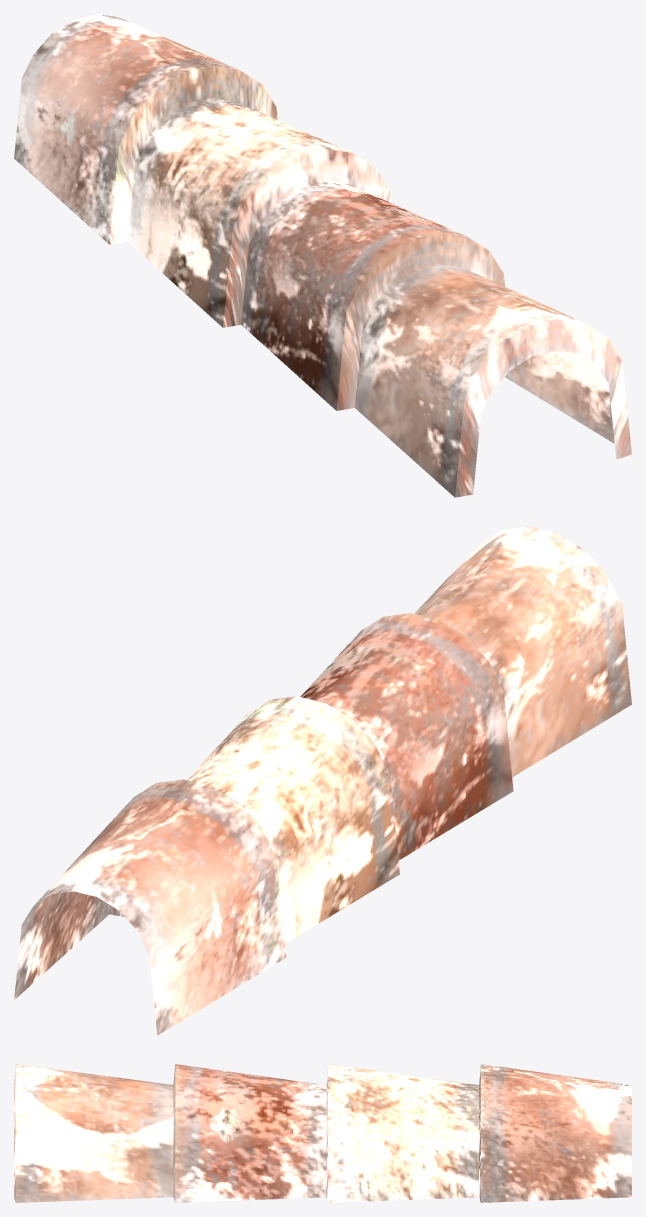
The model's file is SM_roof_A_top_part_2_01.fbx.
3 views of the same model, one above another, from view 1: azimuth 30°, elevation 25°; view 2: azimuth 150°, elevation 25°; view 3: azimuth 270°, elevation 25° (orthographic). The views are drawn at different scales.
Visible parts, largest first — view 1: SM_roof_A_top_part_2_01_LOD0; view 2: SM_roof_A_top_part_2_01_LOD0; view 3: SM_roof_A_top_part_2_01_LOD0.
Boxes of the visible parts, box(x1,y1,x2,y2) form: SM_roof_A_top_part_2_01_LOD0: box(14, 14, 631, 497); SM_roof_A_top_part_2_01_LOD0: box(14, 526, 631, 1035); SM_roof_A_top_part_2_01_LOD0: box(14, 1064, 631, 1202).
Size of the model in its own units: 44.51 by 200 by 36.78.
Materials: 1 (1 with a texture image).
